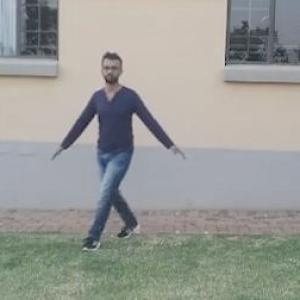land: (43, 50, 188, 242)
